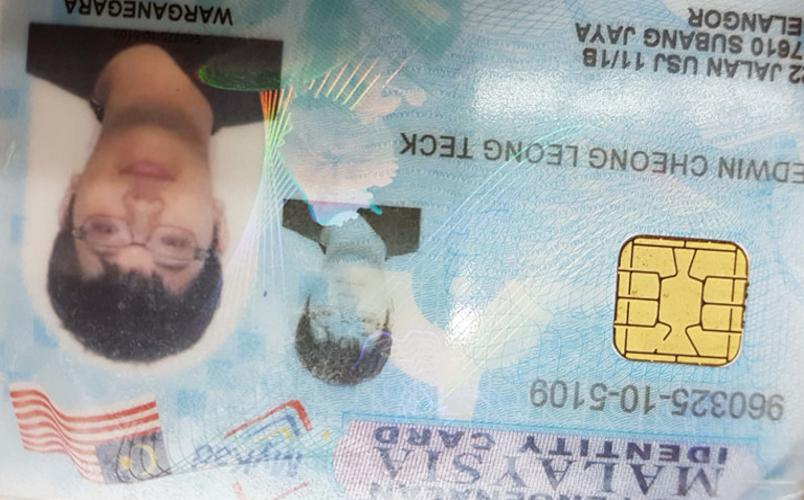hologramB: (279, 9, 401, 195)
